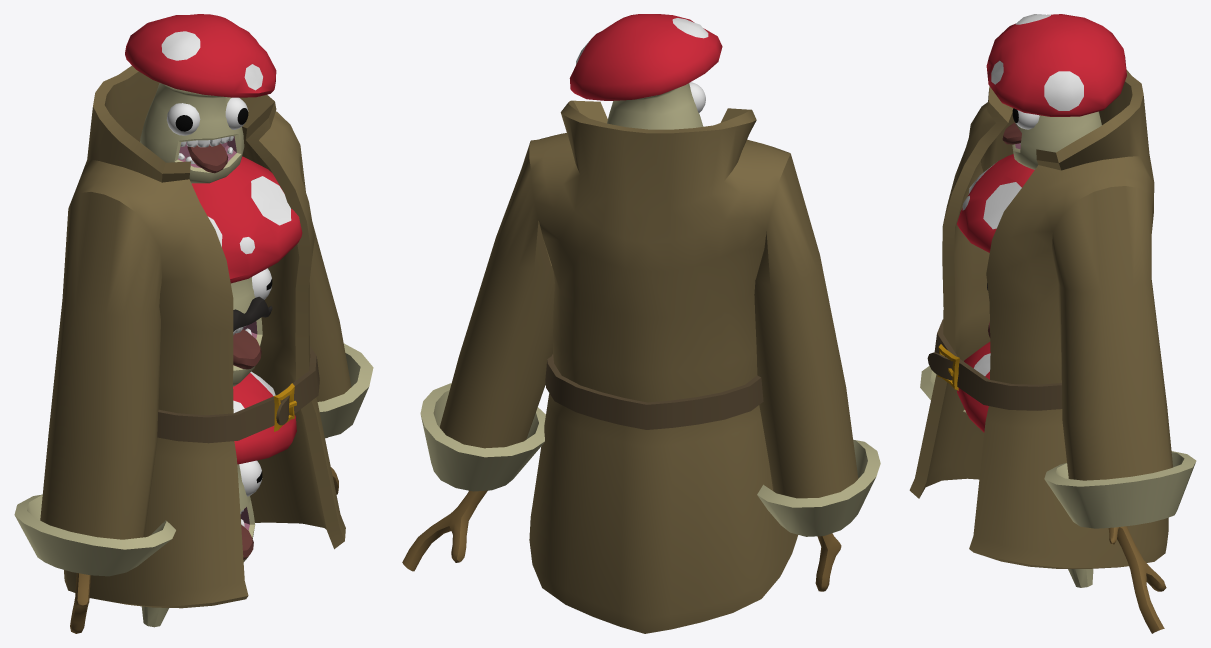
File: Mushrooms In A Trenc.glb
3 renders of one model, left to right at view 1: azimuth 30°, elevation 25°; view 2: azimuth 150°, elevation 25°; view 3: azimuth 270°, elevation 25°, orthographic. The views are drawn at different scales.
Parts seen in each view (by area): view 1: Mushrooms in a trench coat; view 2: Mushrooms in a trench coat; view 3: Mushrooms in a trench coat.
Part boxes in pixels (x1,y1,x2,y2): Mushrooms in a trench coat: (14, 14, 373, 633); Mushrooms in a trench coat: (402, 14, 880, 633); Mushrooms in a trench coat: (909, 14, 1196, 633).
Size of the model in its own units: 1.7 by 2.46 by 1.16.
Materials: 2 (2 with a texture image).
